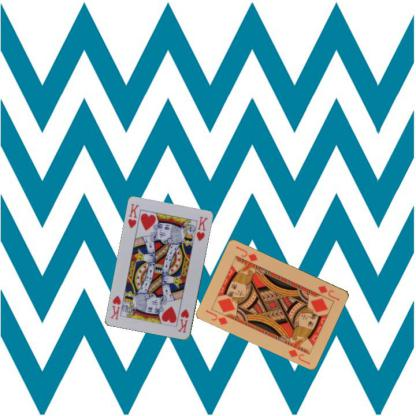Jd: (316, 283, 342, 302), (203, 307, 229, 326)
Kh: (125, 202, 141, 230), (176, 307, 190, 334)
